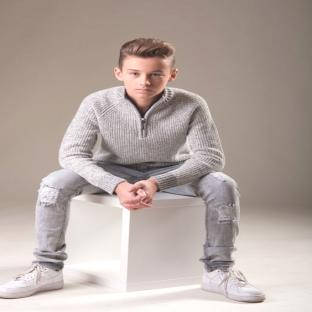Human: (1, 38, 265, 301)
